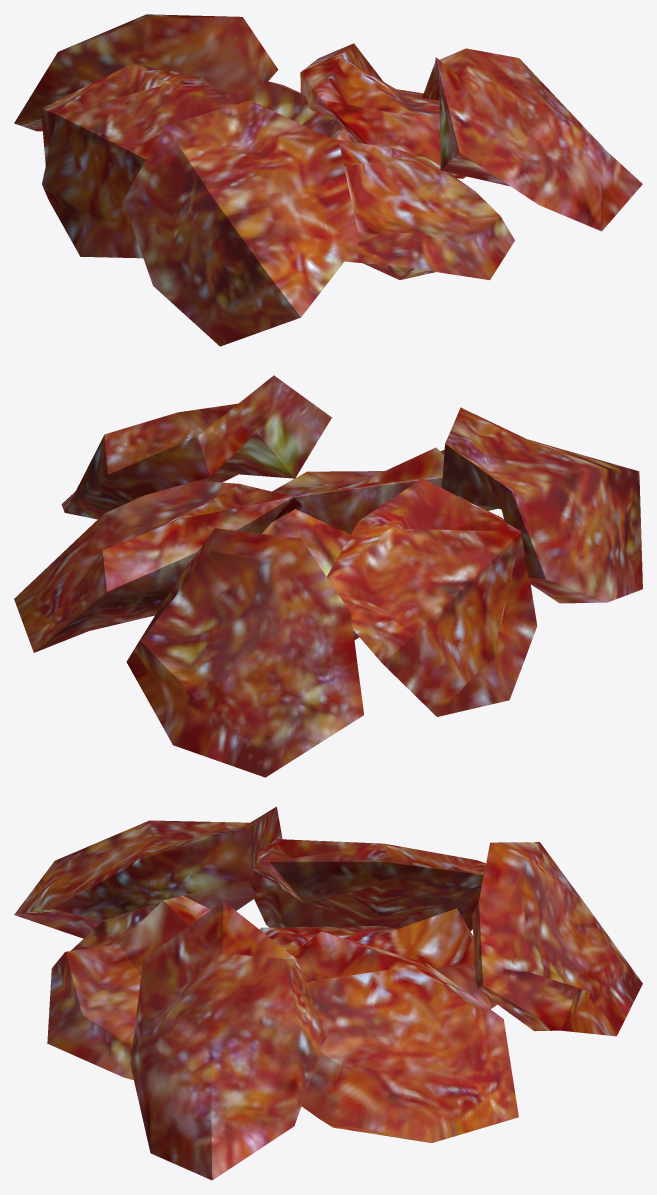
Rendered from Antipasto_tomatogherkin.fbx.
The picture shows the model from 3 angles, top to bottom: view 1: azimuth 30°, elevation 25°; view 2: azimuth 150°, elevation 25°; view 3: azimuth 270°, elevation 25°; orthographic projection. The views are drawn at different scales.
Visible parts, largest first — view 1: Antipasto_tomatogherkin; view 2: Antipasto_tomatogherkin; view 3: Antipasto_tomatogherkin.
Part boxes in pixels (x1,y1,x2,y2): Antipasto_tomatogherkin: (14, 14, 642, 346); Antipasto_tomatogherkin: (14, 375, 642, 777); Antipasto_tomatogherkin: (14, 806, 642, 1180).
Size of the model in its own units: 0.1471 by 0.051 by 0.1561.
